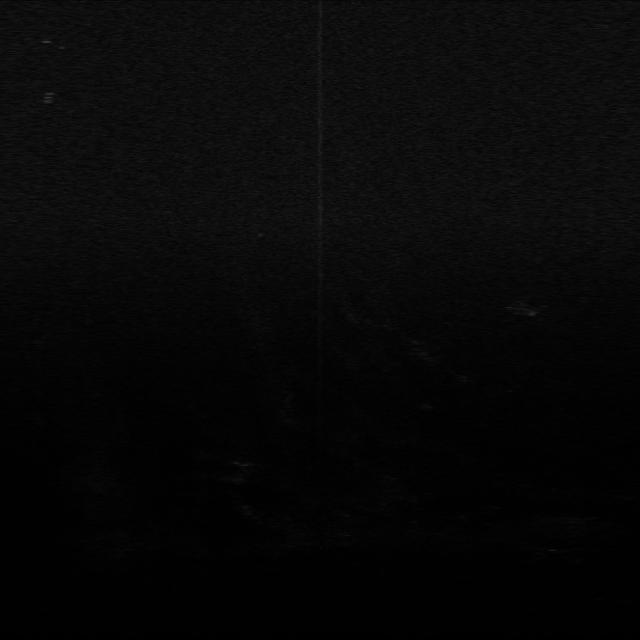rov: (37, 88, 62, 107)
